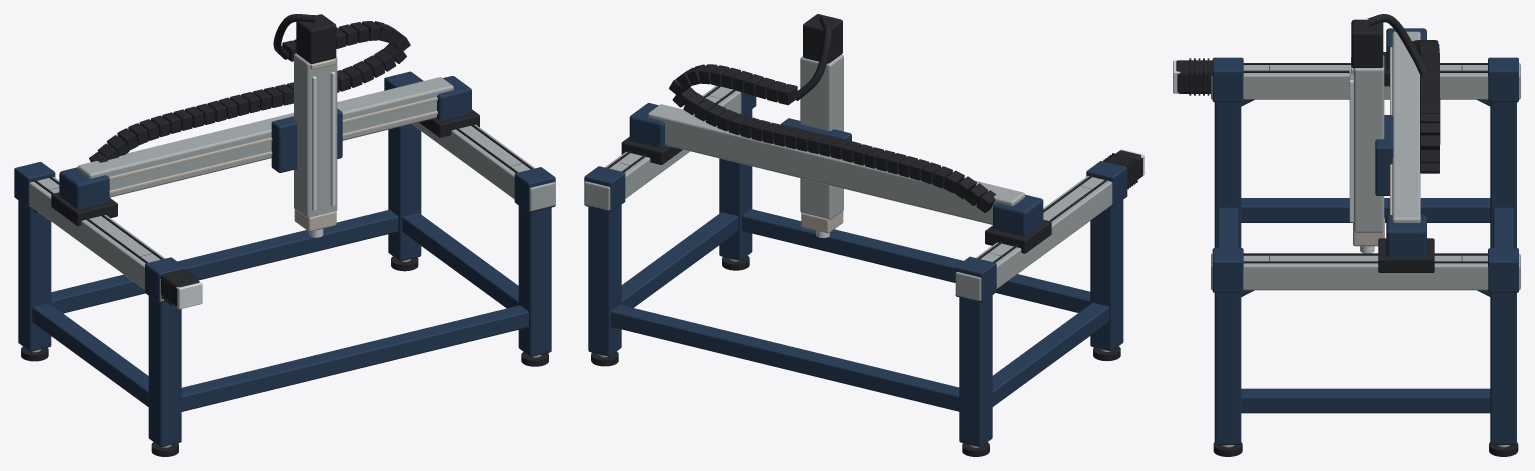
File: robots-11.glb
3 views of the same model, side by side, from view 1: azimuth 30°, elevation 25°; view 2: azimuth 150°, elevation 25°; view 3: azimuth 270°, elevation 25° (orthographic). The views are drawn at different scales.
Visible parts, largest first — view 1: frame, bridge, rails, chain, slide, motor, carriage, axis-drive, feet, tool; view 2: frame, bridge, chain, rails, slide, motor, feet, axis-drive, tool; view 3: frame, rails, bridge, slide, chain, motor, axis-drive, carriage, feet, tool.
Part boxes in pixels (left/top/right/bottom): frame: left=14, top=71, right=555, bottom=447; bridge: left=51, top=76, right=479, bottom=225; rails: left=29, top=122, right=555, bottom=301; chain: left=89, top=14, right=410, bottom=162; slide: left=294, top=53, right=337, bottom=218; motor: left=296, top=14, right=336, bottom=69; carriage: left=271, top=108, right=342, bottom=172; axis-drive: left=160, top=269, right=202, bottom=309; feet: left=21, top=256, right=548, bottom=456; tool: left=294, top=209, right=336, bottom=237; frame: left=584, top=85, right=1127, bottom=446; bridge: left=621, top=103, right=1051, bottom=253; chain: left=669, top=15, right=996, bottom=212; rails: left=584, top=85, right=1112, bottom=300; slide: left=800, top=54, right=843, bottom=219; motor: left=803, top=14, right=842, bottom=63; feet: left=591, top=255, right=1120, bottom=456; axis-drive: left=1103, top=149, right=1144, bottom=189; tool: left=801, top=211, right=843, bottom=237; frame: left=1212, top=57, right=1518, bottom=444; rails: left=1211, top=63, right=1520, bottom=290; bridge: left=1378, top=28, right=1434, bottom=272; slide: left=1349, top=55, right=1384, bottom=232; chain: left=1367, top=14, right=1440, bottom=173; motor: left=1351, top=19, right=1383, bottom=73; axis-drive: left=1173, top=58, right=1212, bottom=95; carriage: left=1375, top=115, right=1393, bottom=195; feet: left=1213, top=442, right=1518, bottom=456; tool: left=1353, top=218, right=1384, bottom=253.
Size of the model in its own units: 3.14 by 2.49 by 2.22.
